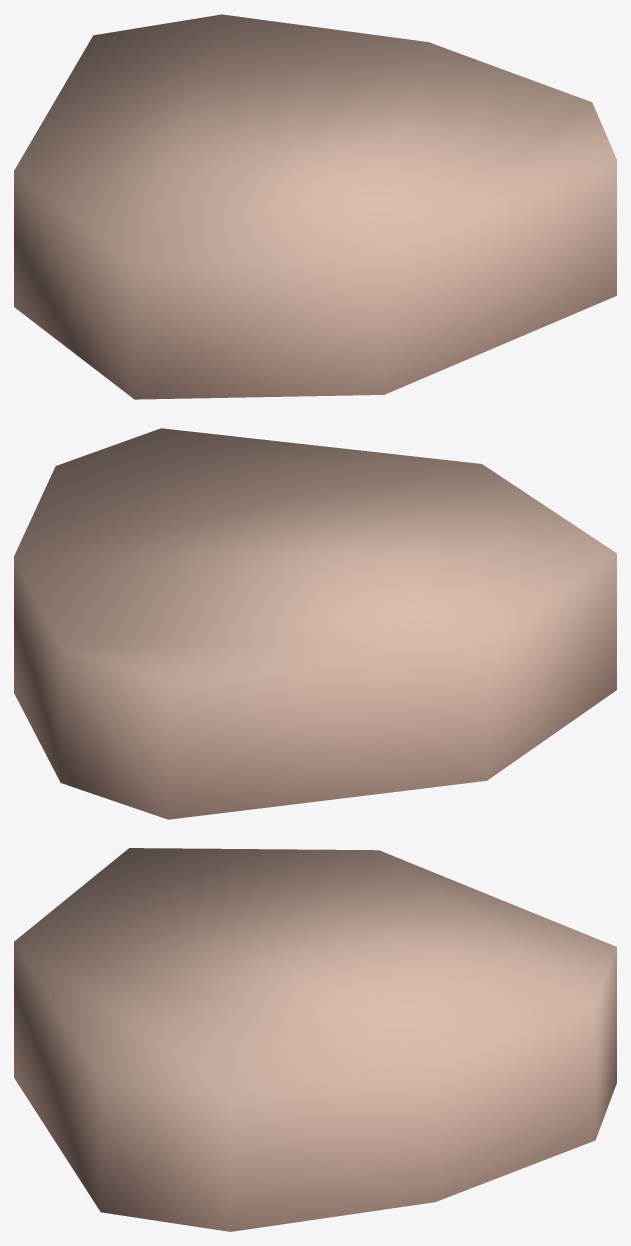
The model's file is (%no-merge) 41.glb.
3 renders of one model, top to bottom at view 1: azimuth 30°, elevation 25°; view 2: azimuth 150°, elevation 25°; view 3: azimuth 270°, elevation 25°, orthographic.
Parts seen in each view (by area): view 1: (%no-merge) 41; view 2: (%no-merge) 41; view 3: (%no-merge) 41.
Boxes of the visible parts, left/top/right/bottom form: (%no-merge) 41: left=14, top=14, right=616, bottom=399; (%no-merge) 41: left=14, top=428, right=616, bottom=819; (%no-merge) 41: left=14, top=848, right=616, bottom=1231.
Size of the model in its own units: 0.0909 by 0.0232 by 0.0934.
